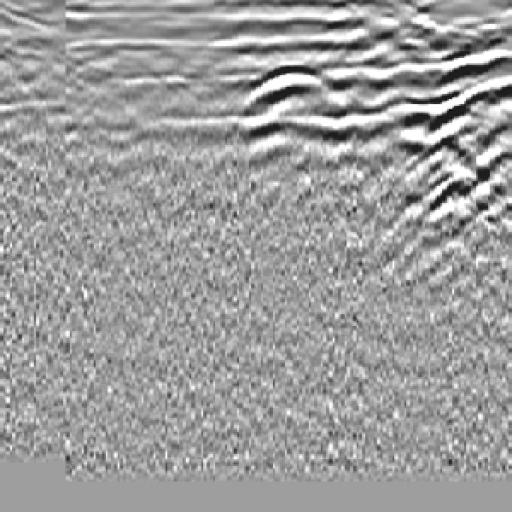metalic: (232, 51, 357, 117)
